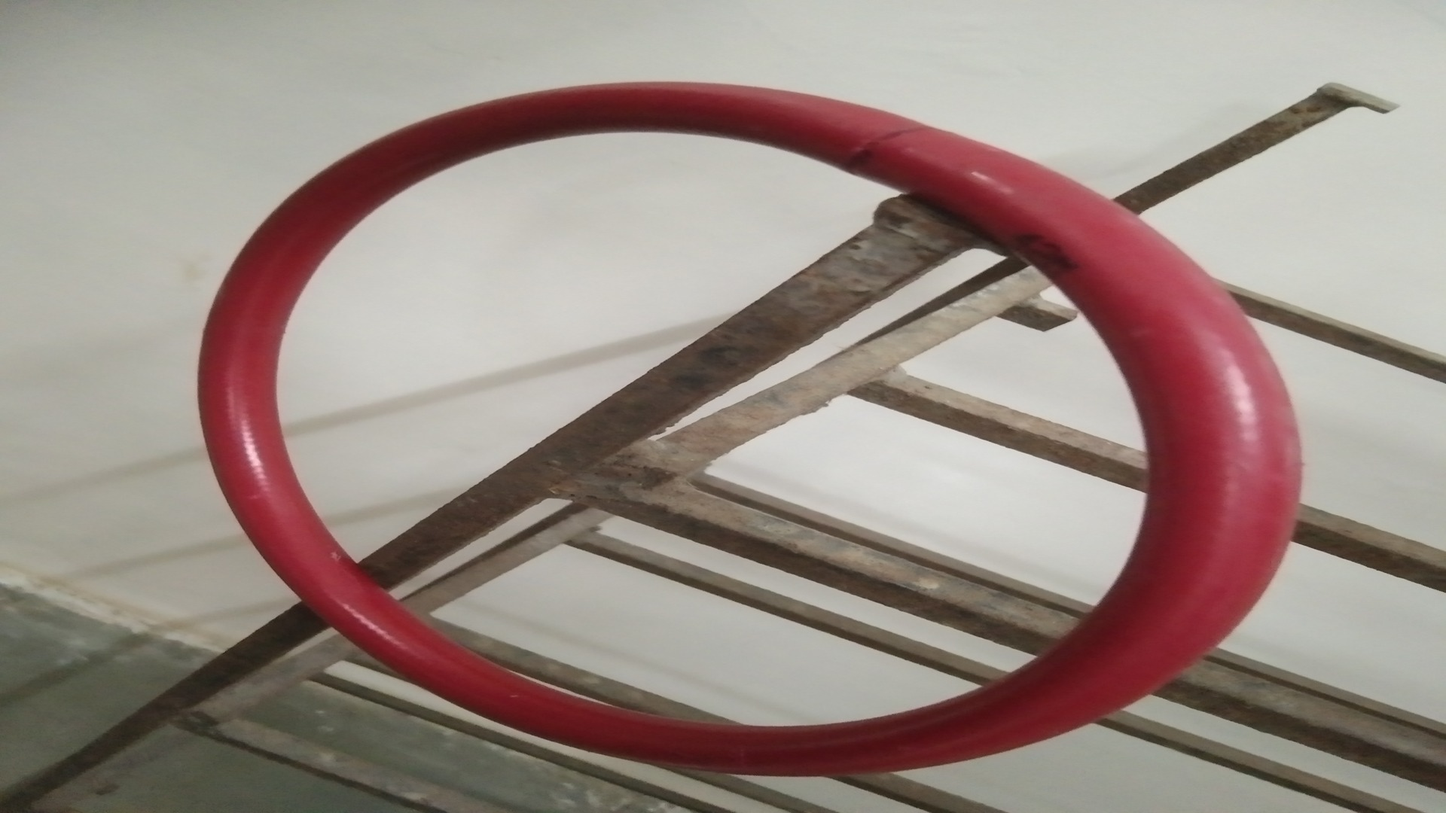Red ring: (197, 79, 1295, 772)
